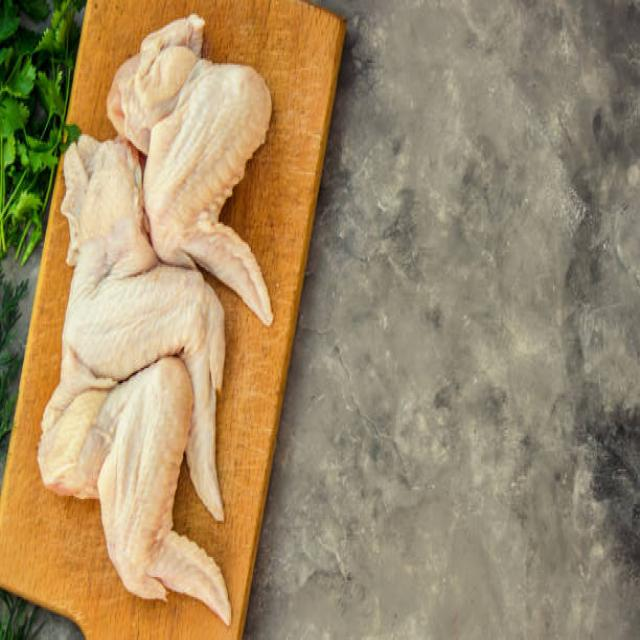Chicken: (50, 365, 222, 628), (61, 176, 231, 384), (144, 44, 287, 276)
